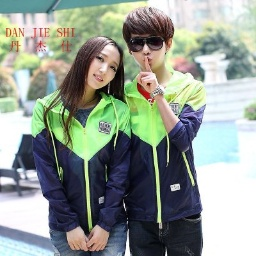face: (52, 32, 126, 102), (119, 5, 176, 75)
